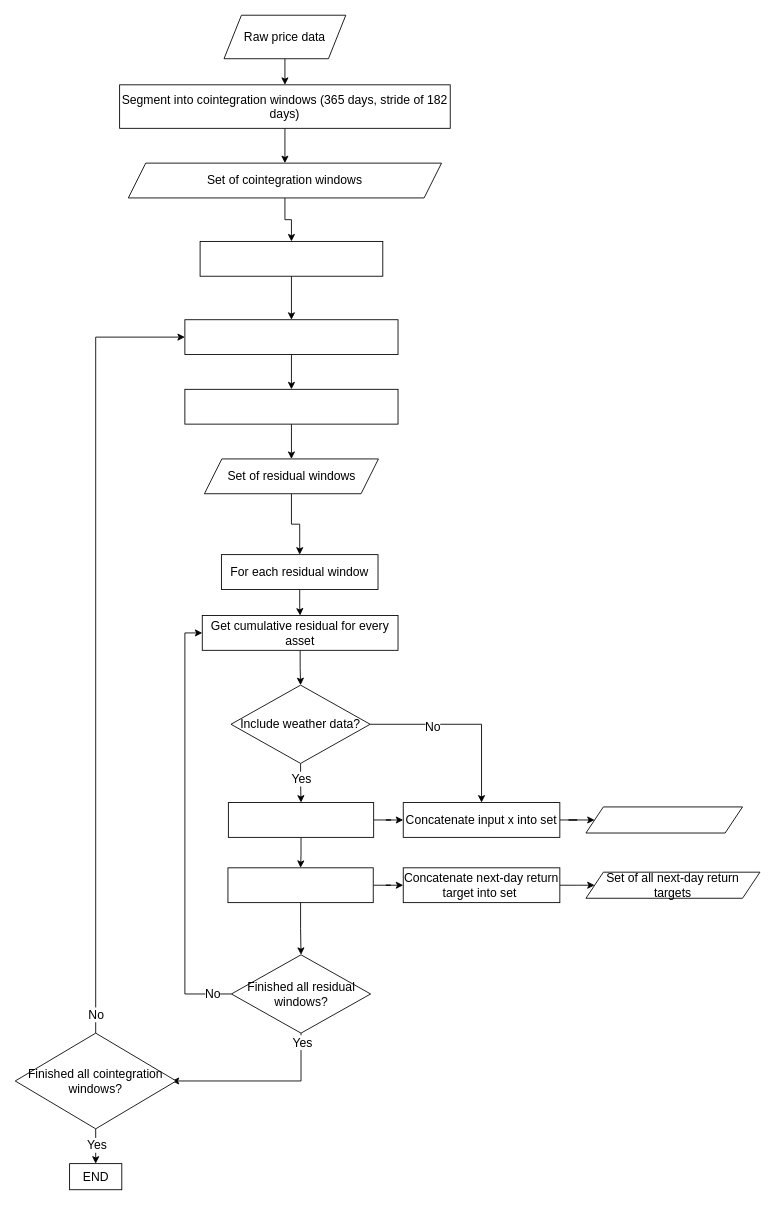
The diagram is 775 pixels wide and 1205 high, and some of its shapes have lost their labels. Each missing label, with the box of its shape:
Concatenate weather data: (228, 802, 374, 837)
For each cointegration window: (199, 241, 383, 276)
Get next-day return: (227, 867, 373, 903)
Regress and get residuals for every asset: (184, 319, 398, 355)
Segment into residual windows (30 days, stride of 1 day): (184, 388, 398, 424)
Set of all inputs: (585, 806, 743, 833)
